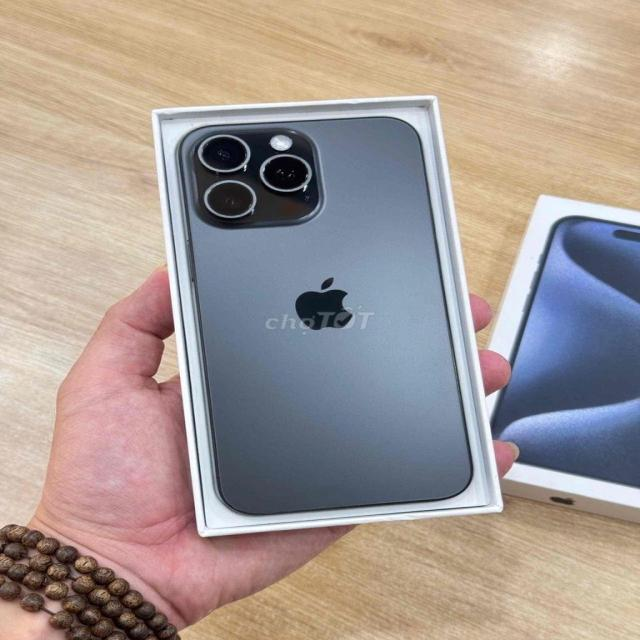gen_15: (155, 104, 488, 537)
